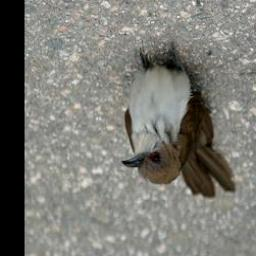Cuckoo: (120, 40, 237, 200)
